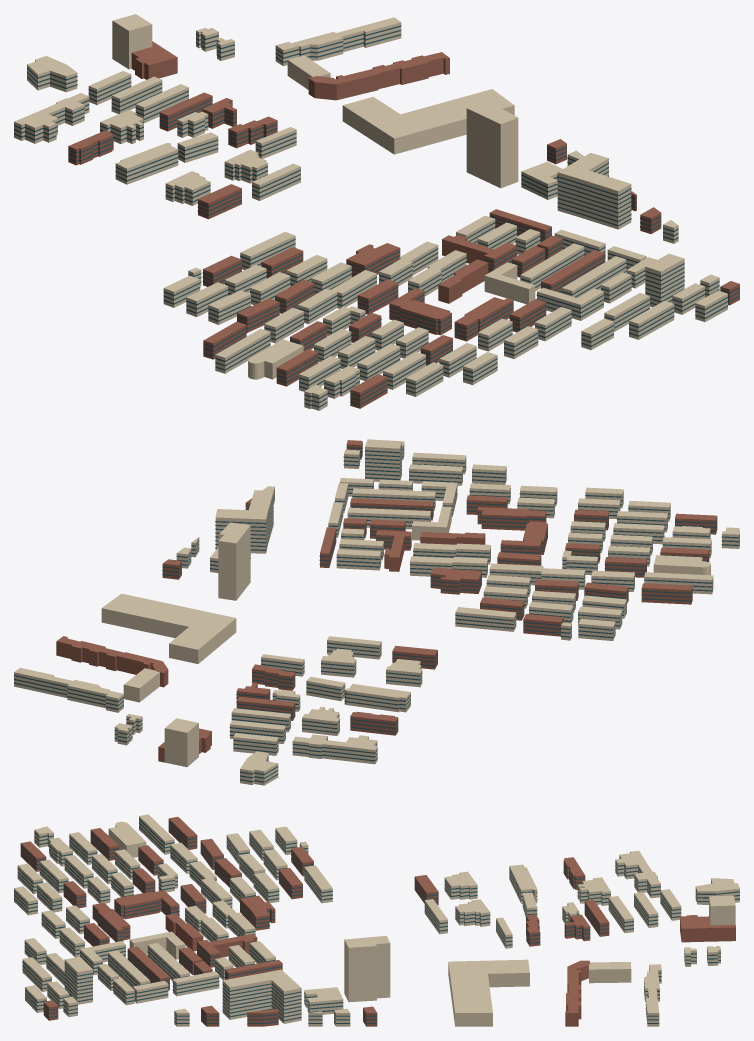
3 renders of one model, top to bottom at view 1: azimuth 30°, elevation 25°; view 2: azimuth 150°, elevation 25°; view 3: azimuth 270°, elevation 25°, orthographic. The views are drawn at different scales.
Visible parts, largest first — view 1: osm-way-611246563, osm-way-1421720173, osm-way-967274328, osm-way-967274327, osm-relation-19571366.001, osm-way-1427522303, osm-way-959022782, osm-way-198407281, osm-relation-19571366, osm-way-960774498, osm-way-960774526, osm-relation-12910881 (+78 smaller); view 2: osm-way-611246563, osm-way-1421720173, osm-way-967274327, osm-way-967274328, osm-way-198407281, osm-way-1427522303, osm-way-959022782, osm-relation-19571366, osm-way-960774498, osm-way-960774503, osm-way-960774513, osm-way-960774527 (+50 smaller); view 3: osm-way-611246563, osm-way-1421720173, osm-relation-19571366.001, osm-relation-19571366, osm-way-198407280, osm-way-1427522303, osm-way-967274328, osm-relation-12910881, osm-way-960774498, osm-way-967274327, osm-way-1427493020, osm-way-960774513 (+86 smaller).
Part boxes in pixels (box(x1,y1,x2,y2)): osm-way-611246563: box(342, 89, 514, 154); osm-way-1421720173: box(466, 102, 518, 188); osm-way-967274328: box(308, 52, 449, 100); osm-way-967274327: box(275, 17, 401, 66); osm-relation-19571366.001: box(576, 170, 631, 229); osm-way-1427522303: box(645, 253, 684, 307); osm-way-959022782: box(115, 143, 178, 184); osm-way-198407281: box(112, 14, 152, 69); osm-relation-19571366: box(557, 152, 608, 215); osm-way-960774498: box(454, 297, 513, 341); osm-way-960774526: box(484, 262, 535, 304); osm-relation-12910881: box(398, 300, 451, 335); osm-way-611246563: box(101, 593, 236, 663); osm-way-1421720173: box(218, 522, 250, 600); osm-way-967274327: box(14, 667, 123, 712); osm-way-967274328: box(56, 636, 168, 687); osm-way-198407281: box(164, 718, 198, 766); osm-way-1427522303: box(365, 439, 401, 481); osm-way-959022782: box(344, 684, 410, 712); osm-relation-19571366: box(215, 509, 267, 553); osm-way-960774498: box(477, 507, 546, 530); osm-way-960774503: box(455, 607, 516, 631); osm-way-960774513: box(430, 567, 481, 594); osm-way-960774527: box(347, 507, 430, 529); osm-way-611246563: box(448, 959, 529, 1026); osm-way-1421720173: box(344, 935, 390, 1002); osm-relation-19571366.001: box(222, 973, 271, 1019); osm-relation-19571366: box(264, 969, 301, 1023); osm-way-198407280: box(680, 915, 735, 942); osm-way-1427522303: box(64, 956, 92, 1004); osm-way-967274328: box(565, 960, 589, 1026); osm-relation-12910881: box(114, 891, 161, 919); osm-way-960774498: box(92, 902, 130, 941); osm-way-967274327: box(644, 964, 661, 1026); osm-way-1427493020: box(304, 987, 343, 1014); osm-way-960774513: box(240, 895, 275, 930).
Bounding box in the file's own units: 470 × 60 × 725.
